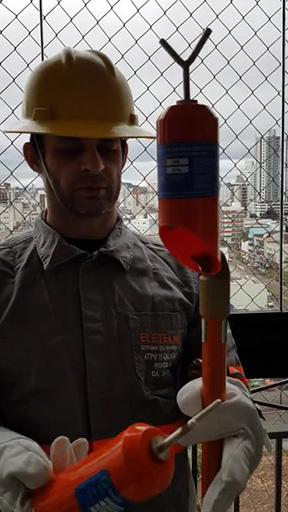Detector_Tensao_Contato: (30, 394, 223, 512), (156, 28, 224, 276)
Vara_Manobra: (196, 258, 233, 512)
